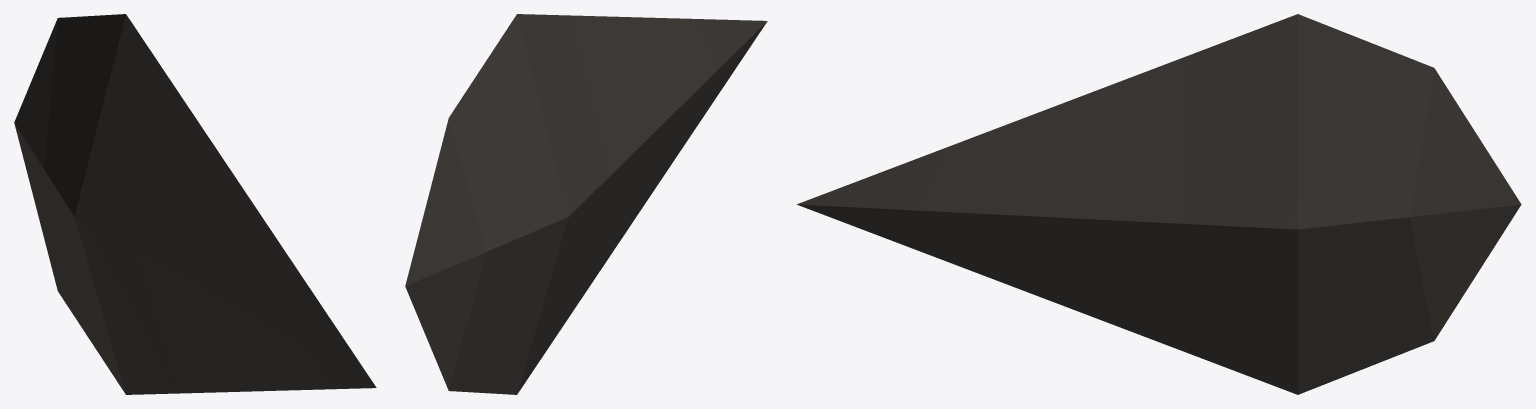
The model's file is Flint.fbx.
3 renders of one model, left to right at view 1: azimuth 30°, elevation 25°; view 2: azimuth 150°, elevation 25°; view 3: azimuth 270°, elevation 25°, orthographic.
Parts seen in each view (by area): view 1: Cube; view 2: Cube; view 3: Cube.
Part boxes in pixels (x1,y1,x2,y2): Cube: [14, 14, 376, 394]; Cube: [405, 14, 767, 394]; Cube: [796, 14, 1521, 394].
Size of the model in its own units: 32.77 by 116 by 200.
